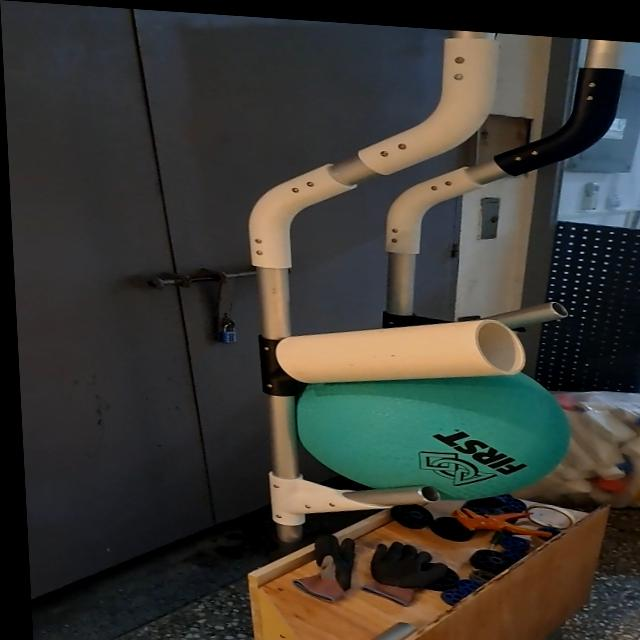ALGAE: (291, 350, 584, 505)
CORAL: (269, 299, 533, 399)
